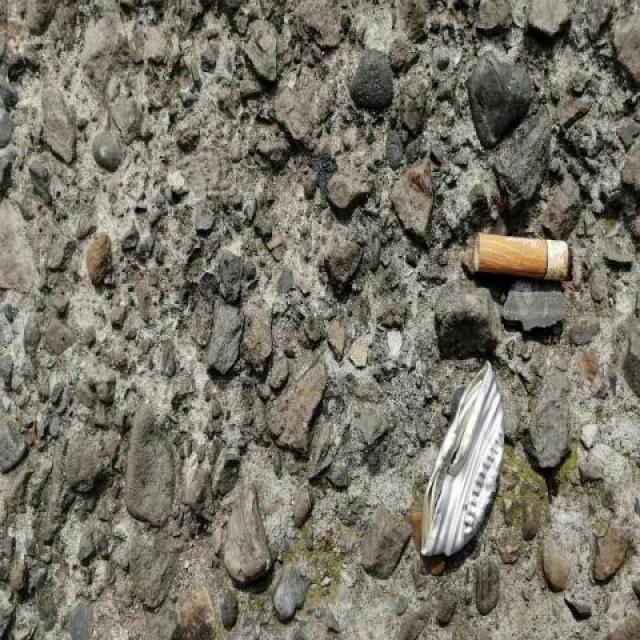non-organic waste: (469, 229, 576, 286)
